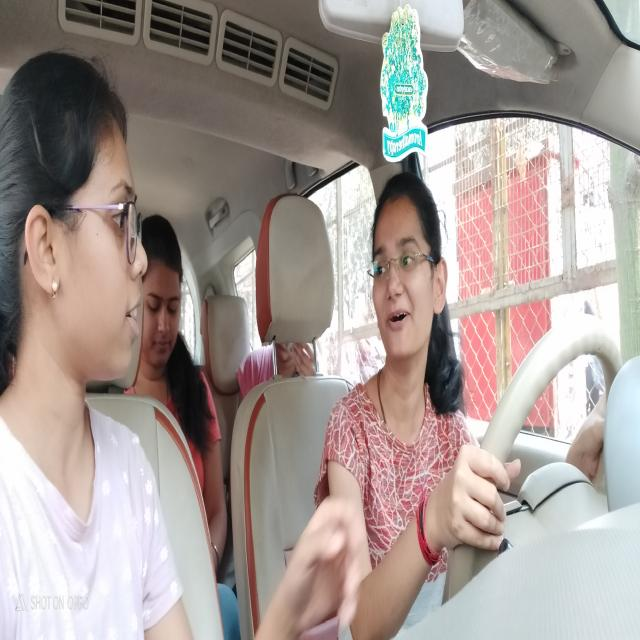LeftRight: (366, 161, 449, 370)
person: (0, 43, 148, 391), (142, 211, 190, 377)
talking: (124, 292, 142, 346), (385, 305, 412, 336)
